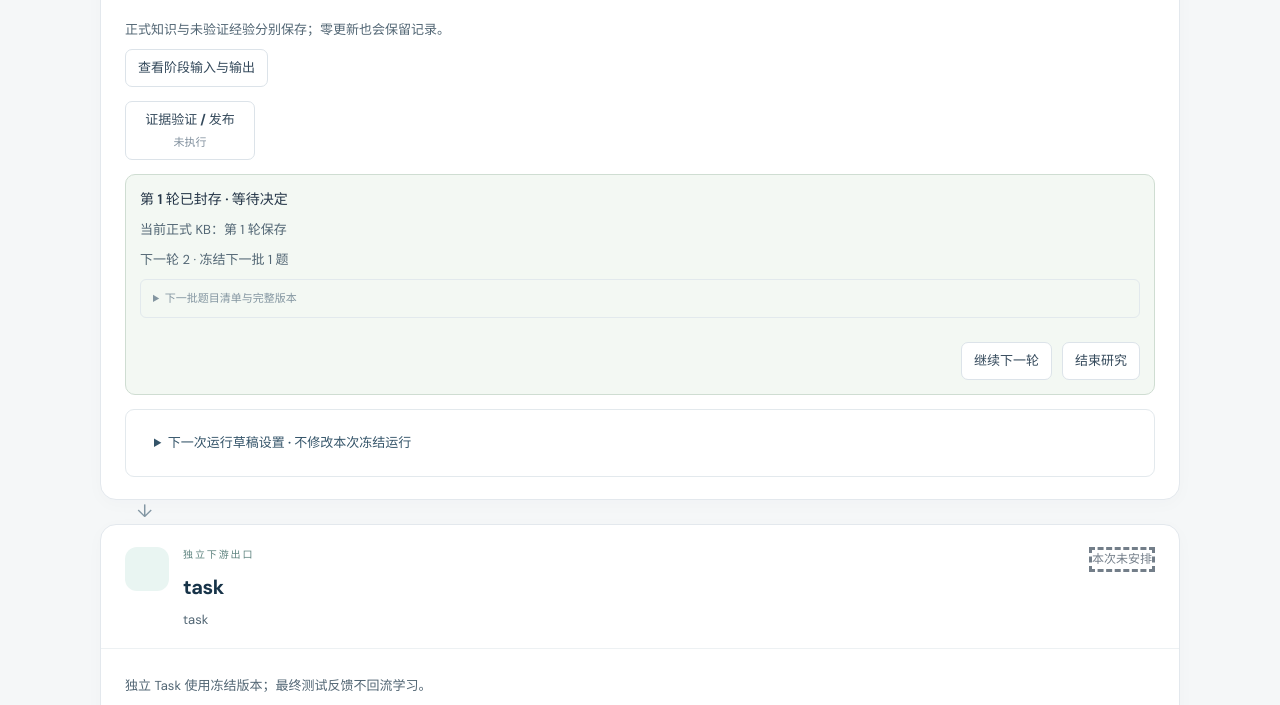
Test: sends one server-owned decision with exact round identity while double clicked
The image size is (1280, 705).
(page scrolled)
Click the button "继续下一轮": click(1006, 361) [961,342,1052,380]
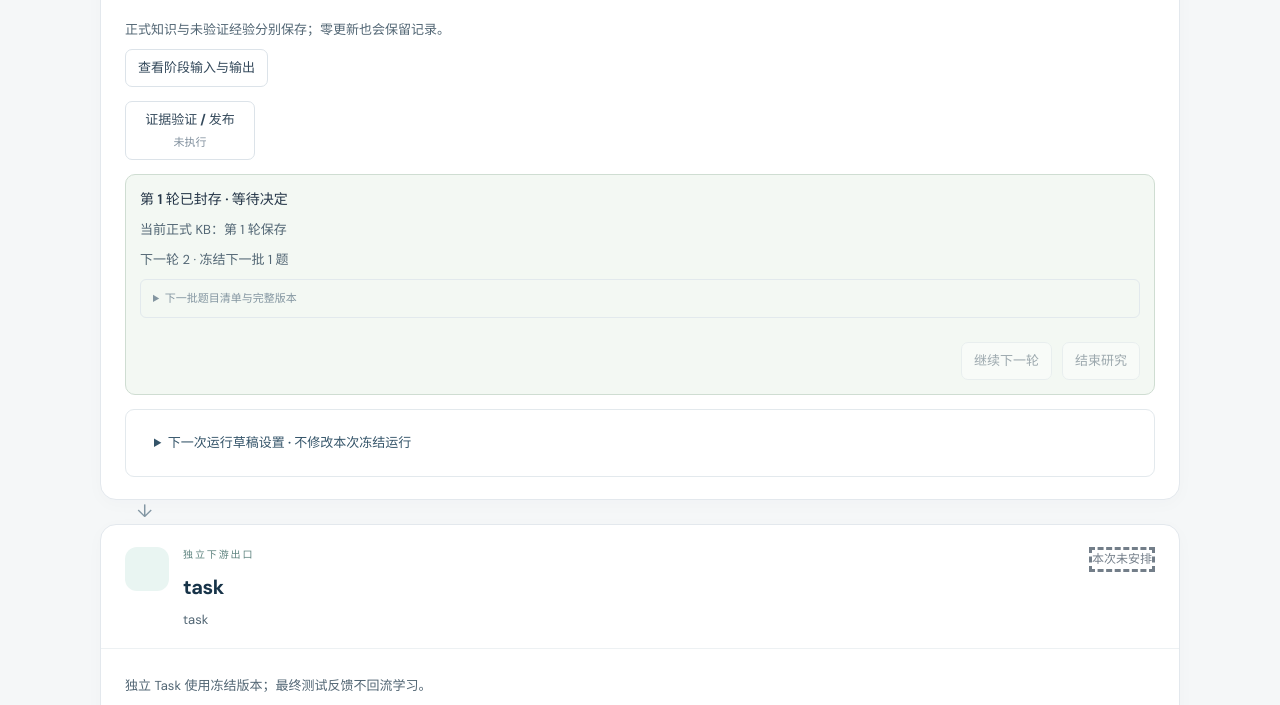
Click the button "继续下一轮": click(1006, 361) [961,342,1052,380]
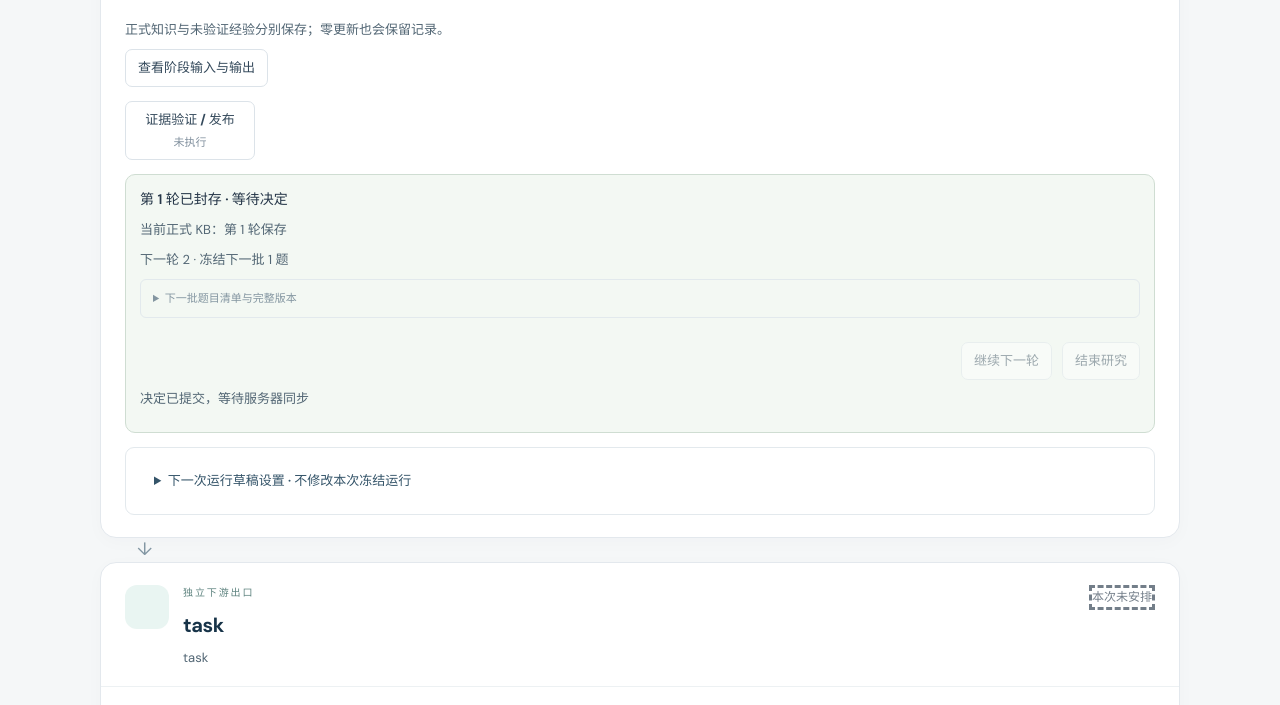
Expected: the button "继续下一轮" is disabled, [961,342,1052,380]
Expected: the text "决定已提交，等待服务器同步" is shown, [140,390,309,407]
